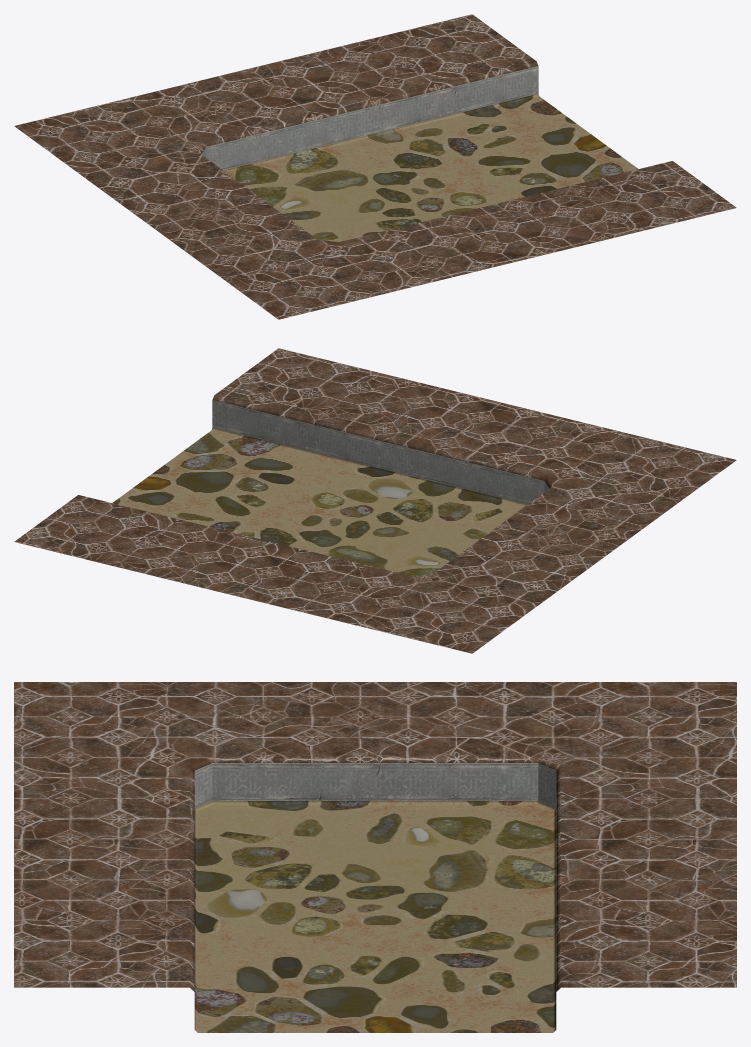
File: FBX_Floor_Sunk_End.fbx
The picture shows the model from 3 angles, top to bottom: view 1: azimuth 30°, elevation 25°; view 2: azimuth 150°, elevation 25°; view 3: azimuth 270°, elevation 25°; orthographic projection. The views are drawn at different scales.
Visible parts, largest first — view 1: Floor_Sunk_End; view 2: Floor_Sunk_End; view 3: Floor_Sunk_End.
Part boxes in pixels (<box>): Floor_Sunk_End: <box>14,14,736,319</box>; Floor_Sunk_End: <box>14,348,736,653</box>; Floor_Sunk_End: <box>14,682,736,1032</box>.
Bounding box in the file's own units: 1000 × 68.92 × 1000.
3 materials, 3 textured.
